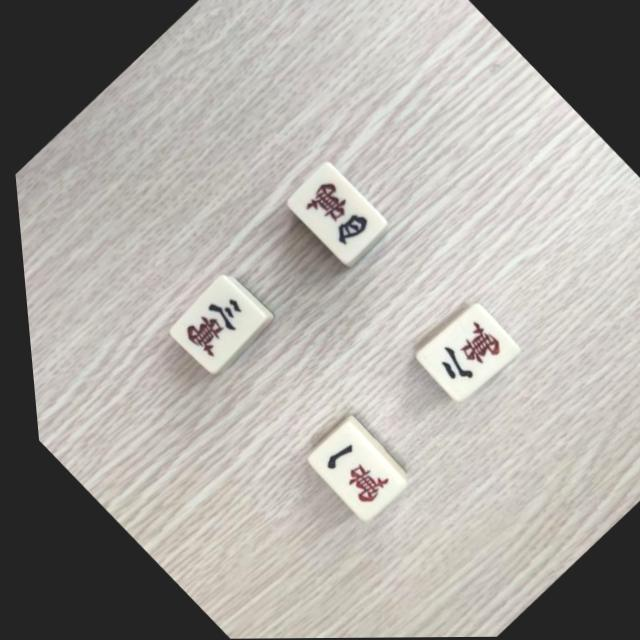sc1: (299, 424, 397, 518)
sc2: (411, 308, 510, 398)
sc3: (165, 280, 262, 369)
sc4: (288, 168, 380, 258)
